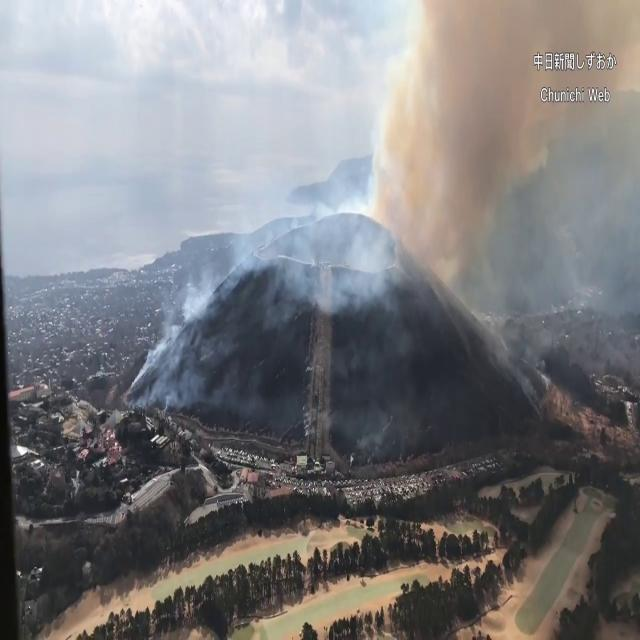Smoke: (361, 0, 639, 319), (123, 206, 359, 418)
